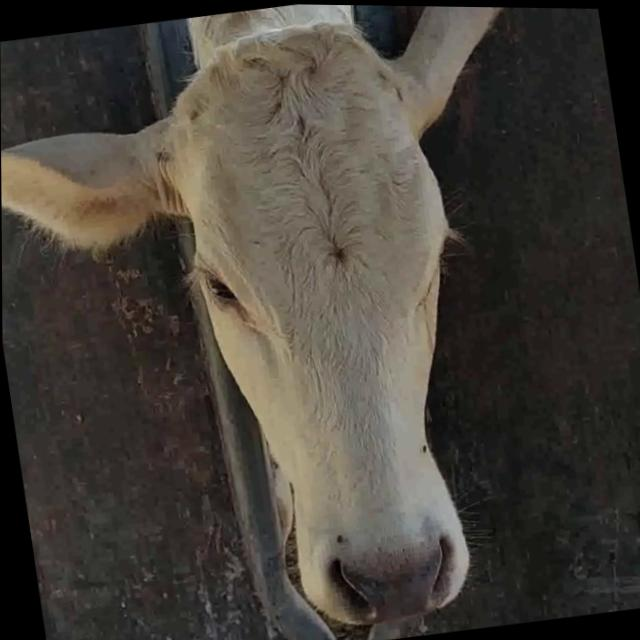cowFace: (166, 5, 509, 634)
